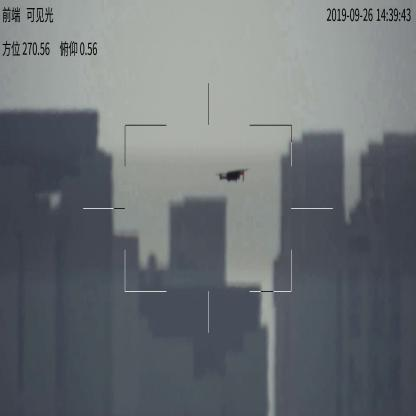uav: (214, 167, 249, 187)
